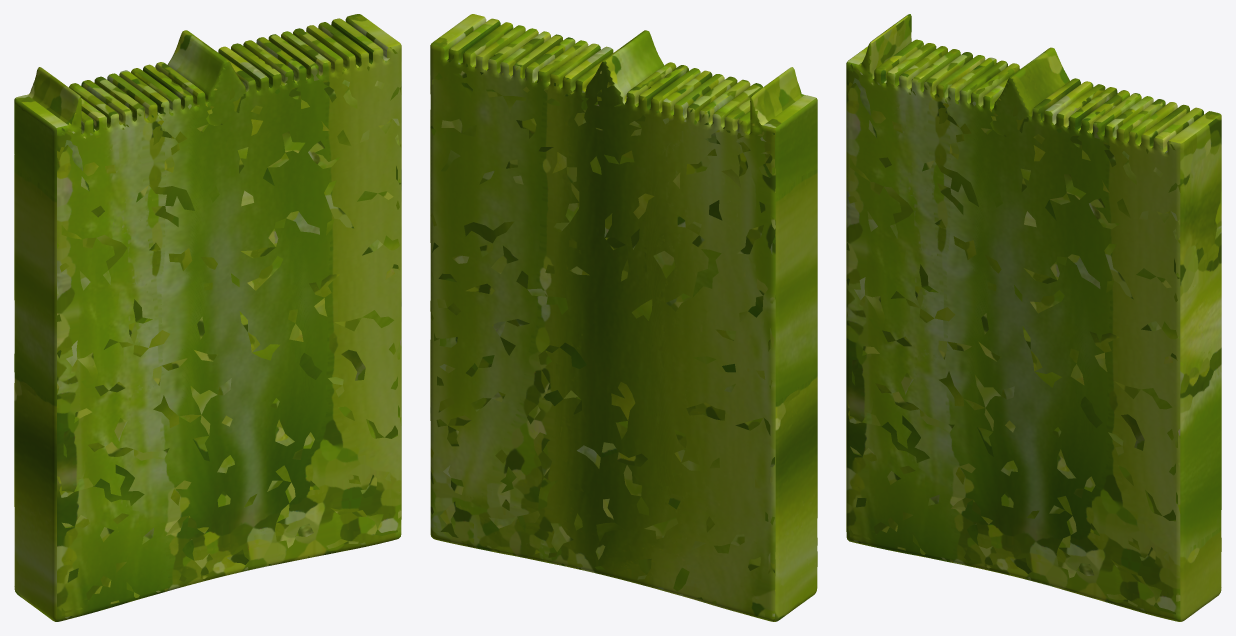
The picture shows the model from 3 angles, left to right: view 1: azimuth 30°, elevation 25°; view 2: azimuth 150°, elevation 25°; view 3: azimuth 330°, elevation 25°; orthographic projection. The views are drawn at different scales.
Visible parts, largest first — view 1: tmpvcwyptjr.ply; view 2: tmpvcwyptjr.ply; view 3: tmpvcwyptjr.ply.
Boxes of the visible parts, x1=… form: tmpvcwyptjr.ply: x1=14, y1=14, x2=401, y2=621; tmpvcwyptjr.ply: x1=430, y1=14, x2=817, y2=621; tmpvcwyptjr.ply: x1=846, y1=14, x2=1221, y2=621.
Size of the model in its own units: 137 by 196 by 29.78.
